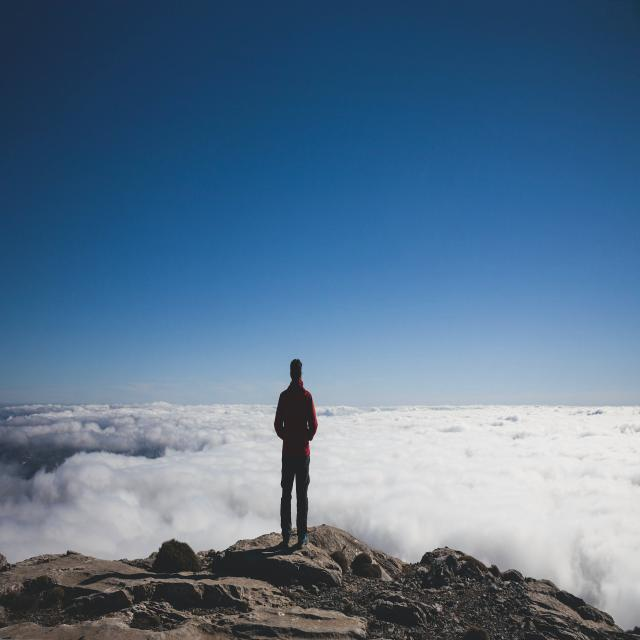adult: (274, 356, 320, 554)
